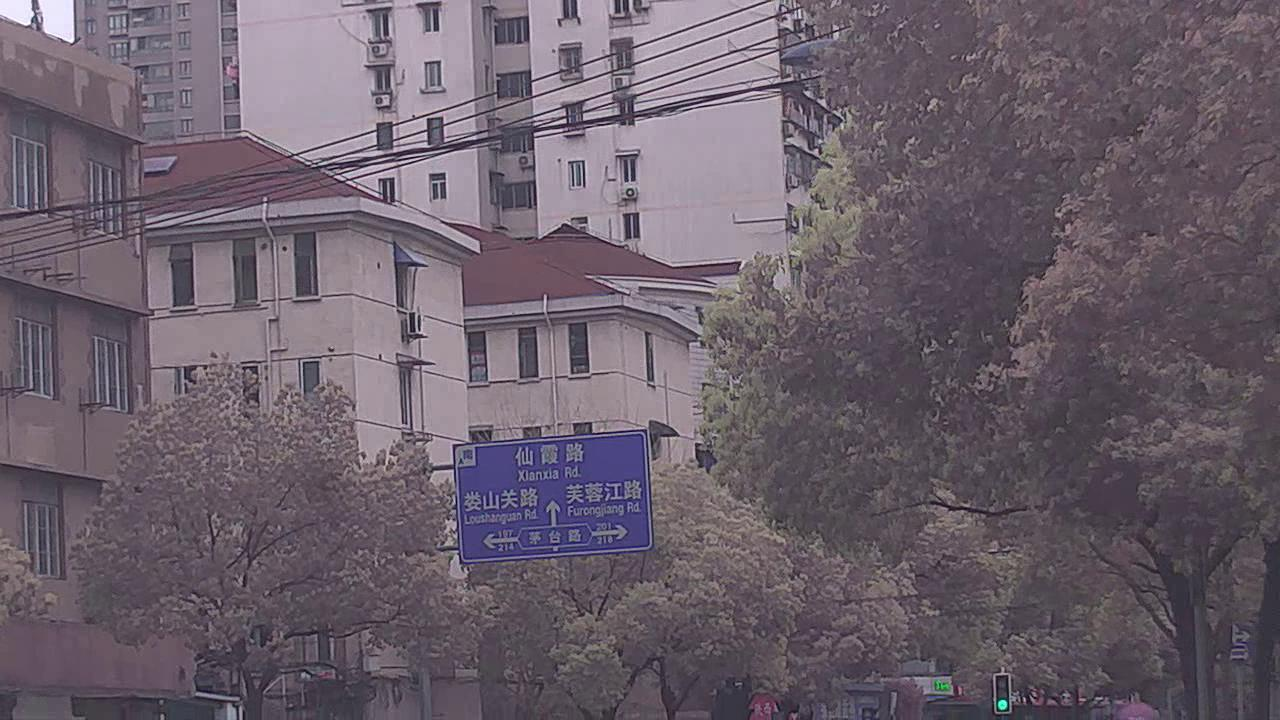traffic_light: (993, 672, 1011, 714)
